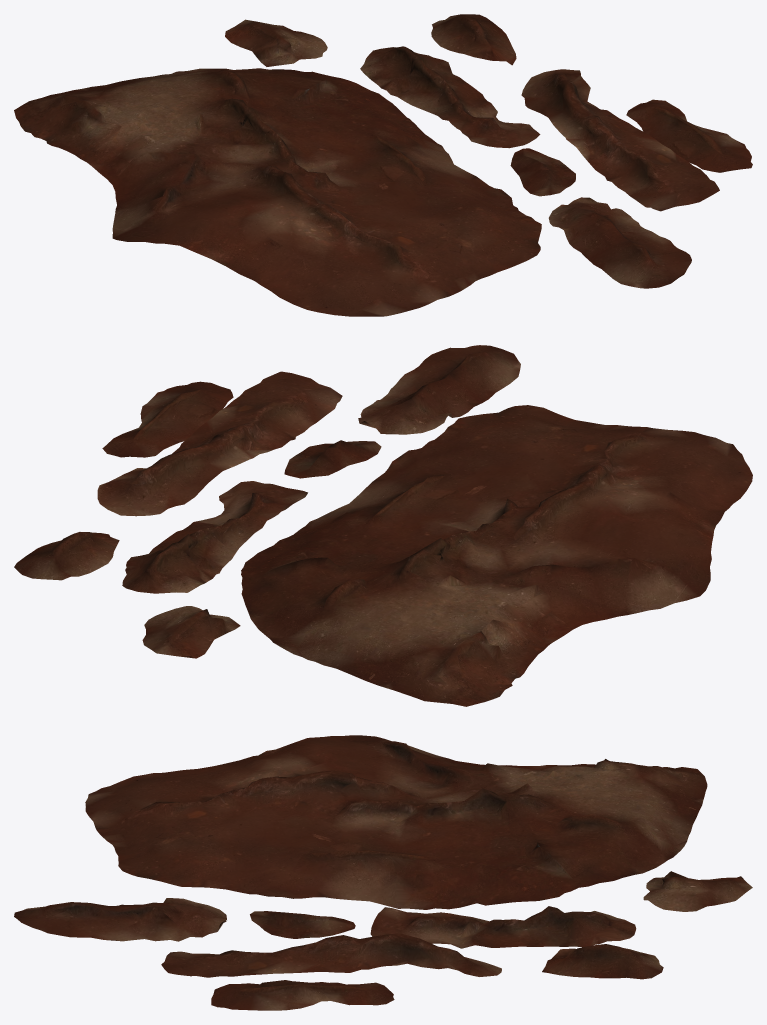
Rendered from root_flat.gltf.
The picture shows the model from 3 angles, top to bottom: view 1: azimuth 30°, elevation 25°; view 2: azimuth 150°, elevation 25°; view 3: azimuth 270°, elevation 25°; orthographic projection. The views are drawn at different scales.
Visible parts, largest first — view 1: root_flat; view 2: root_flat; view 3: root_flat.
Boxes of the visible parts, bbox=[...] form: root_flat: bbox=[14, 14, 752, 316]; root_flat: bbox=[14, 345, 752, 706]; root_flat: bbox=[14, 735, 752, 1010].
Bounding box in the file's own units: 2.38 × 0.199 × 2.71.
Materials: 1 (1 with a texture image).
